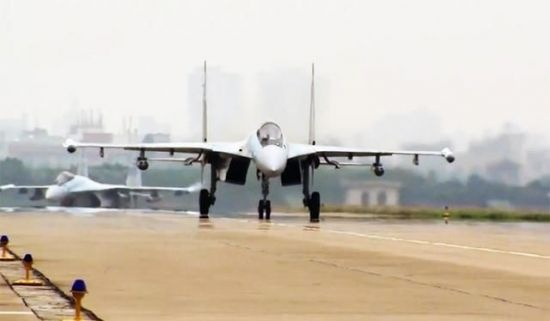airplane: (54, 59, 456, 221), (10, 146, 200, 210)
